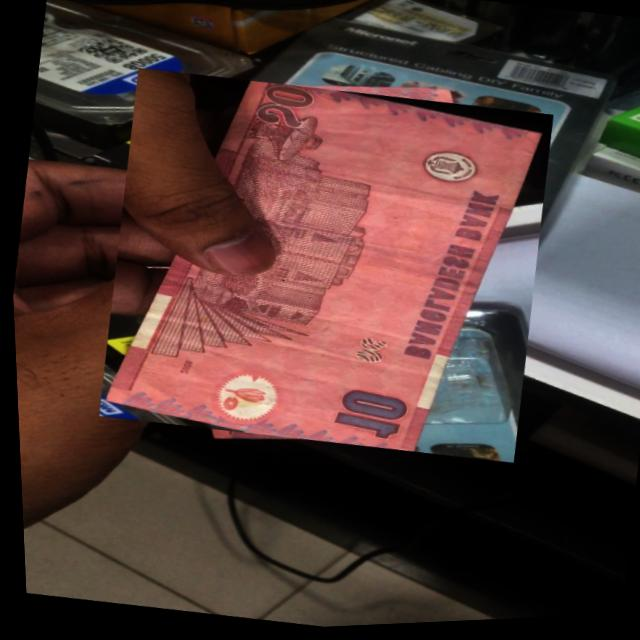Taka: (84, 55, 564, 482)
